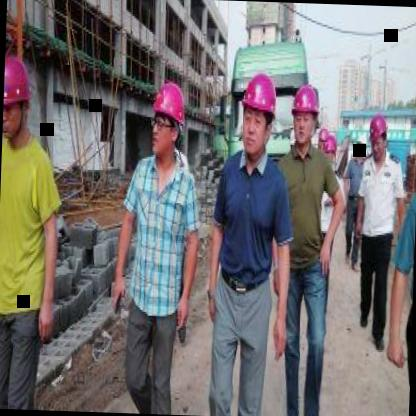helmet: (238, 69, 278, 157), (2, 46, 33, 155), (148, 79, 187, 158), (290, 80, 322, 152), (366, 110, 390, 162), (322, 130, 340, 168), (352, 131, 368, 162)
